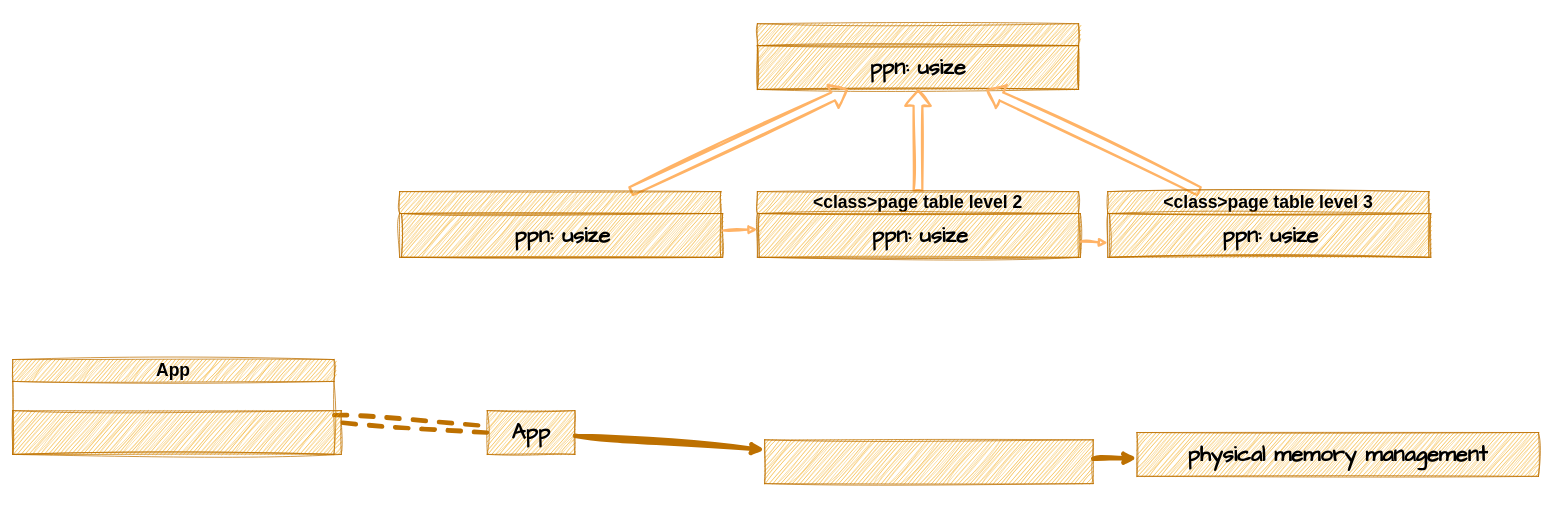
Some shapes in this 1551 by 506 pixel diagram are drawn without their labels. The shapes that lost their labels are listed below. From the top down, each one's box as (x1, y1, x2, y2) in pixels, then its label:
(757, 23, 1079, 89): <Interface>Page Table
(399, 191, 721, 257): <class>page table level 1
(12, 410, 341, 454): run() -> !
(764, 439, 1093, 484): virtual memory management
